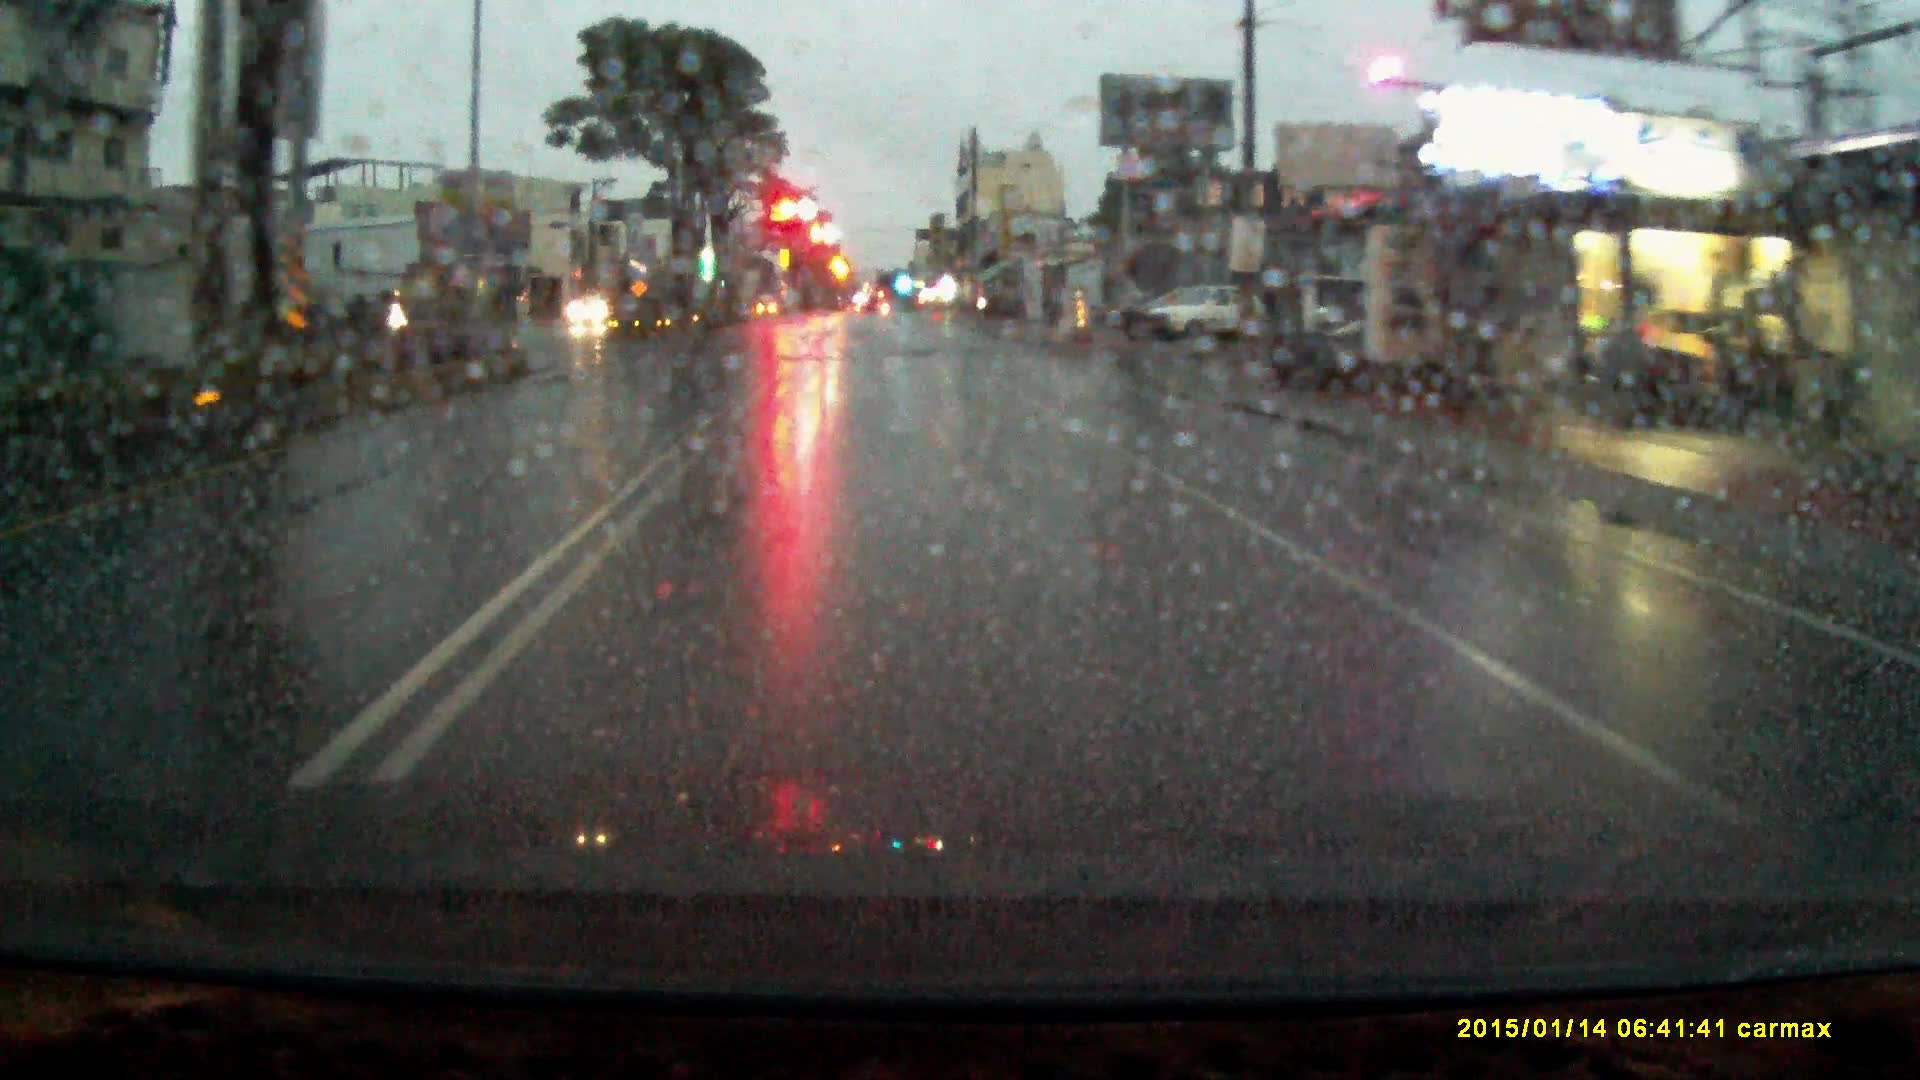vehicle: (1145, 284, 1274, 345), (568, 293, 618, 330)
